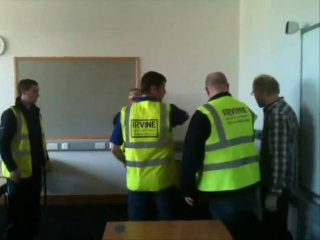person: (182, 70, 261, 232), (111, 70, 192, 216), (250, 69, 298, 234), (2, 75, 52, 230)
